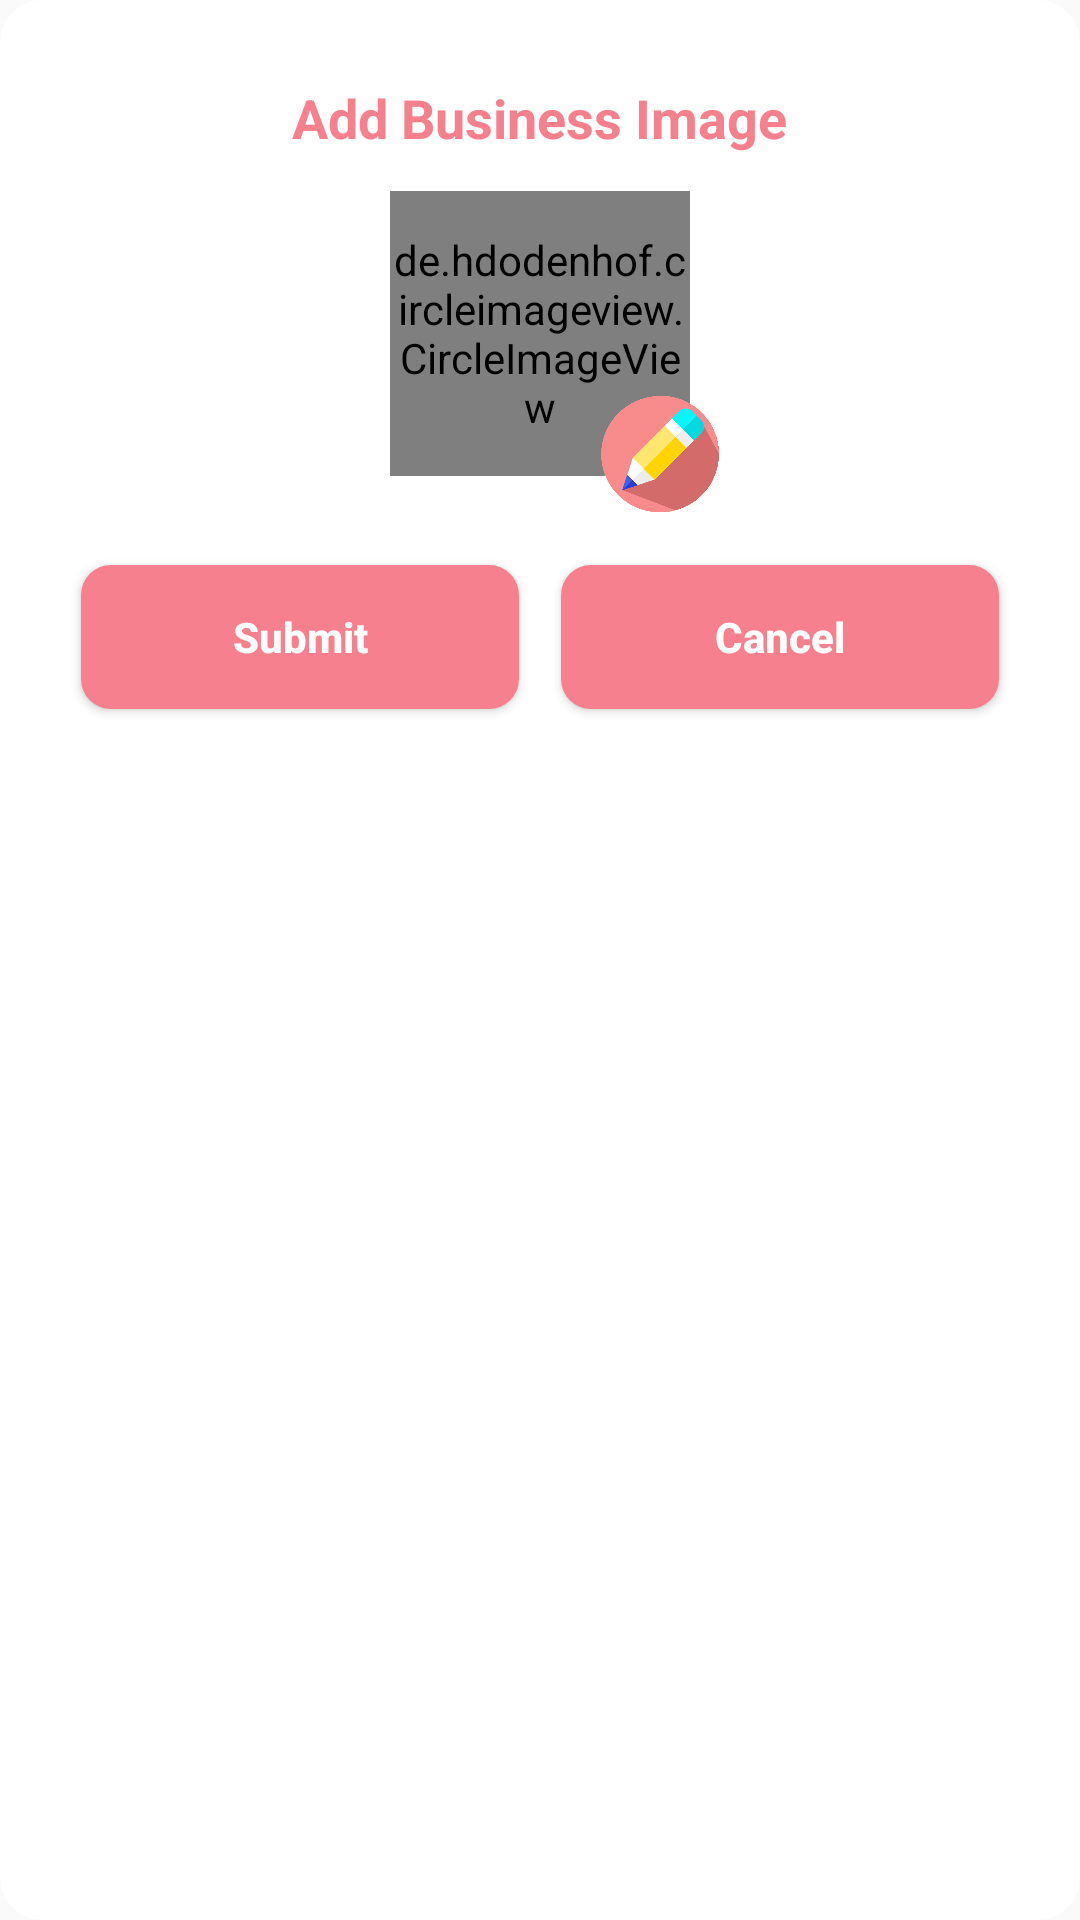

Screen size 1080w x 1920h. Icon name, then its center in pixels as (x=x, y=y):
edit: (x=659, y=453)
